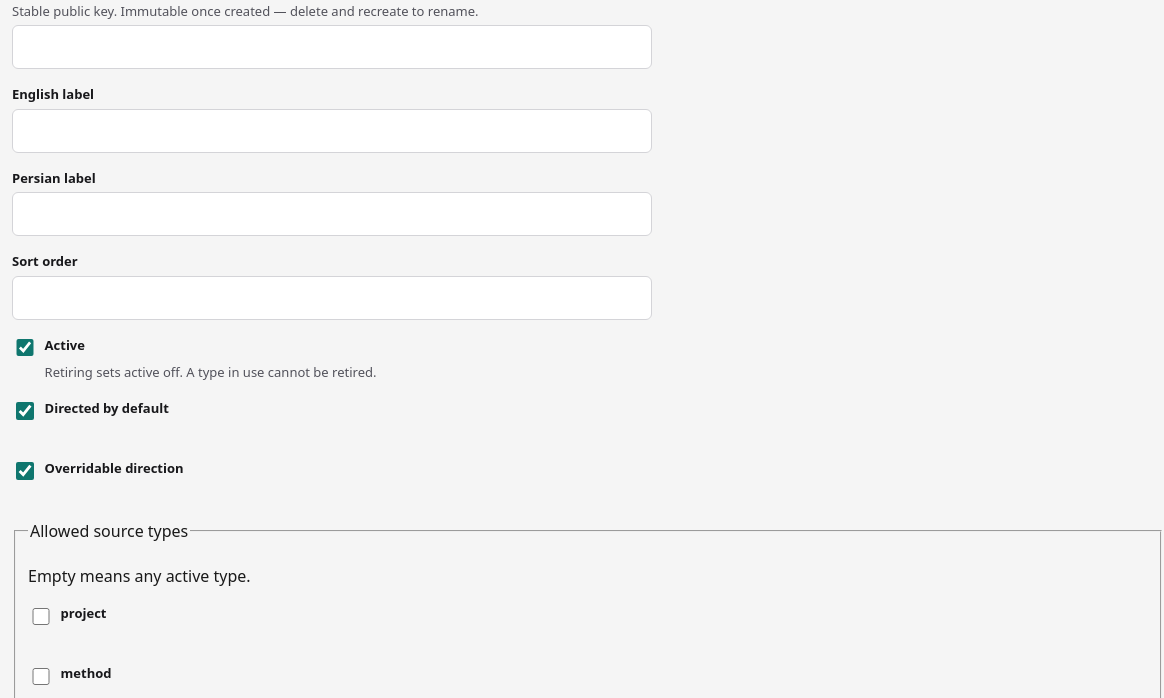
RelationTypeForm (Plan B Task 13) › renders validation errors without saving
Type "uses" into the field labelled "Key".
click(332, 47); type("uses")  # box [12,25,652,69]
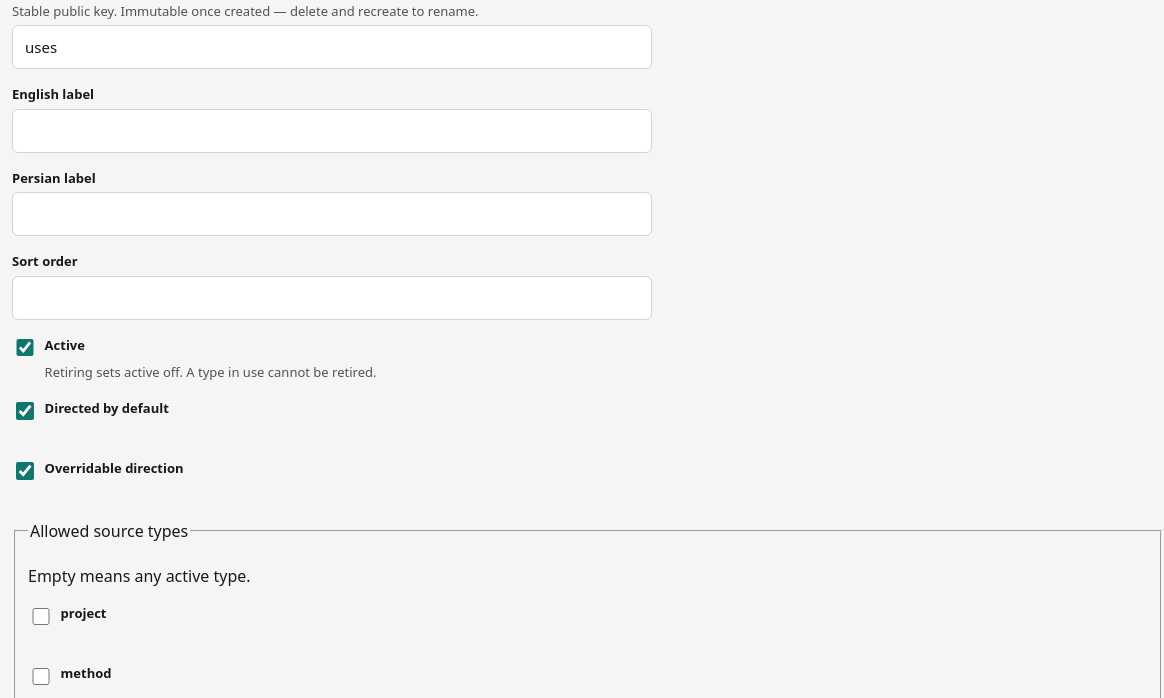
Type "Uses" into the field labelled "English label".
click(332, 130); type("Uses")  # box [12,108,652,152]
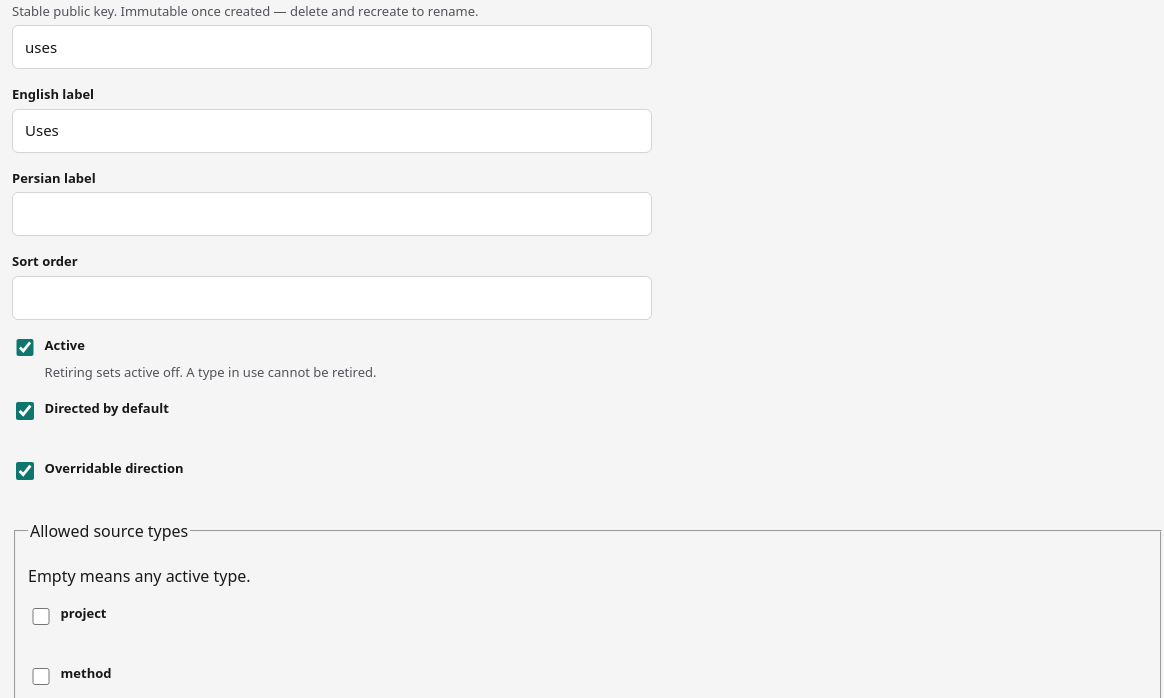
Type "استفاده می‌کند" into the field labelled "Persian label".
click(332, 214); type("استفاده می‌کند")  # box [12,192,652,236]
(page scrolled)
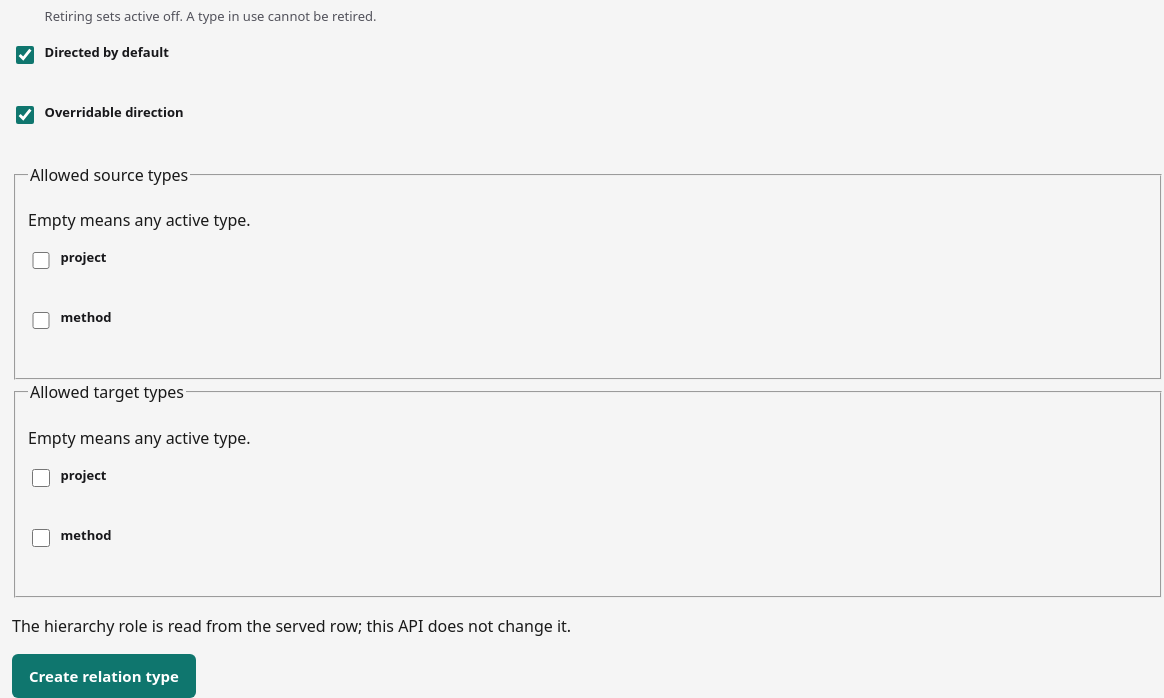
Click the button "Create relation type".
click(104, 676)  # box [12,654,196,697]
(page scrolled)
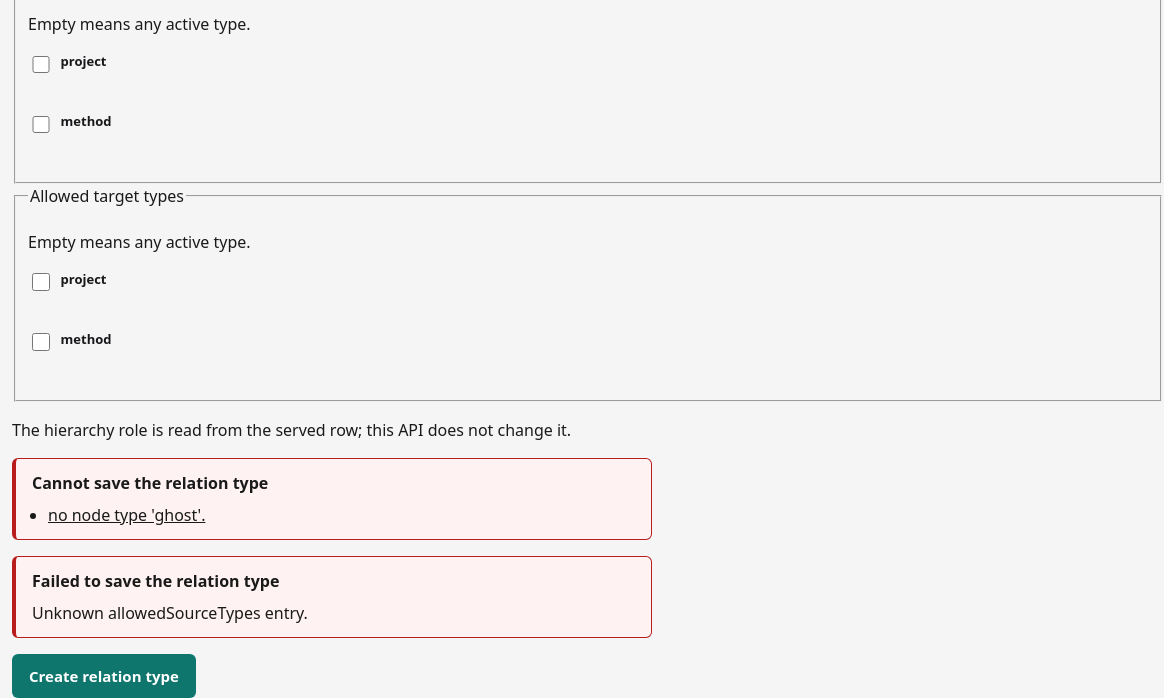
Expected: the link "no node type 'ghost'." is shown, [48,504,206,526]
